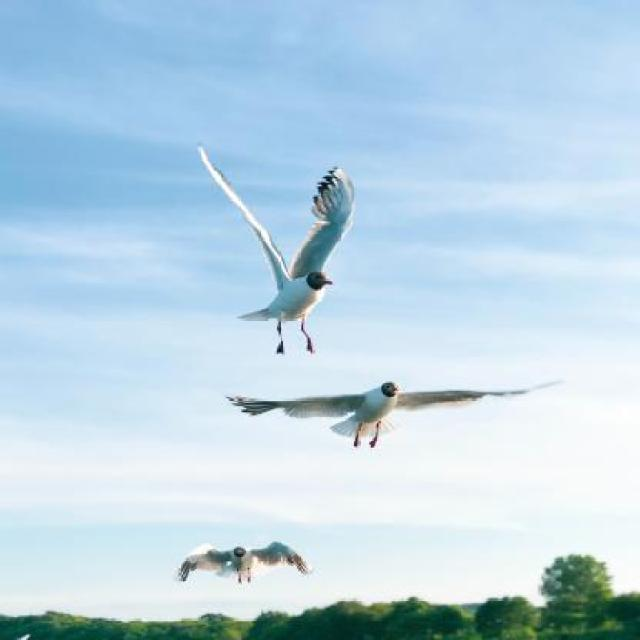bird: (198, 144, 356, 353), (227, 379, 565, 450), (176, 541, 316, 585)
